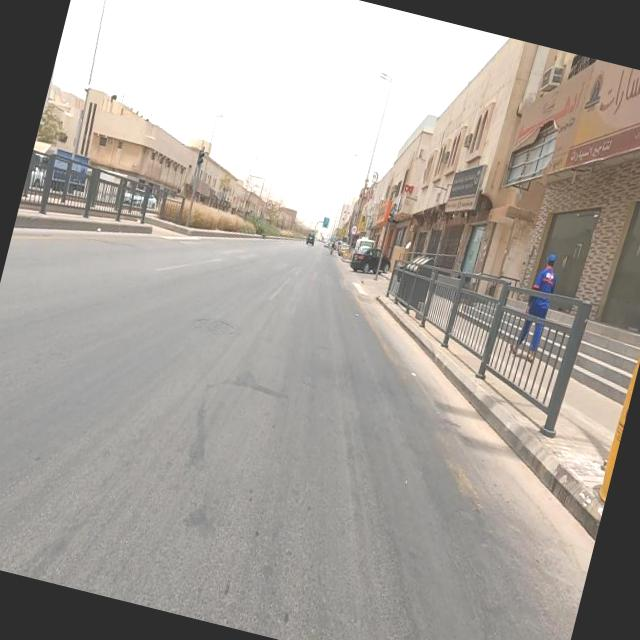debris: (404, 22, 640, 265)
